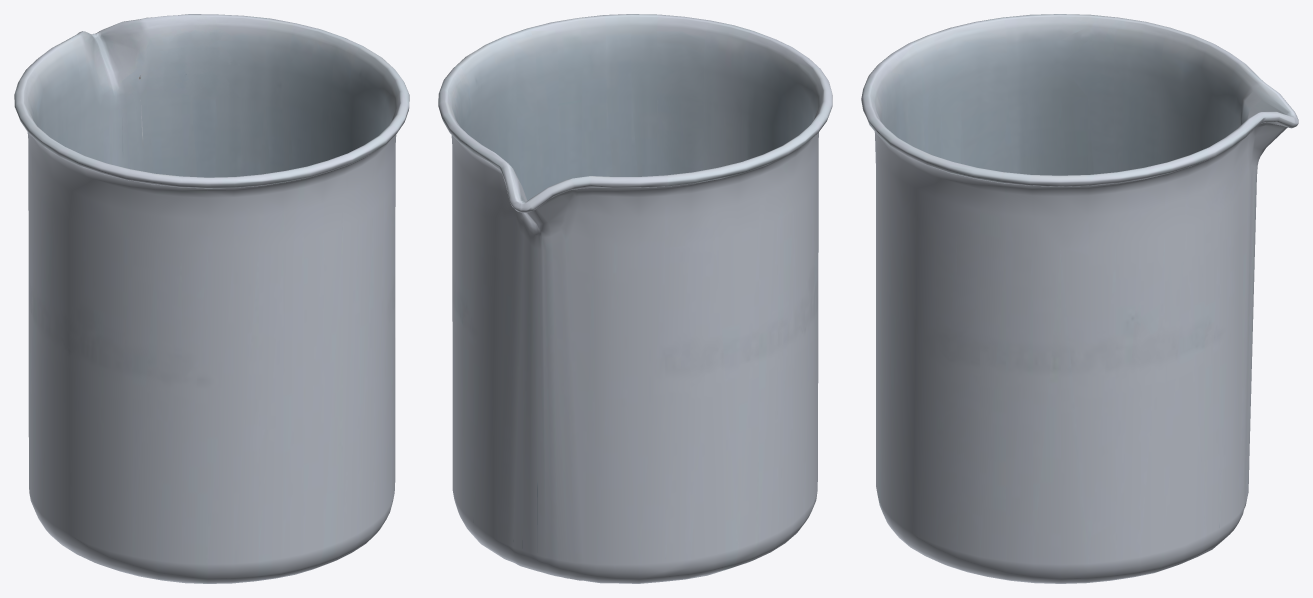
Rendered from glass_cup_1777647016.glb.
The picture shows the model from 3 angles, left to right: view 1: azimuth 30°, elevation 25°; view 2: azimuth 150°, elevation 25°; view 3: azimuth 270°, elevation 25°; orthographic projection.
Parts seen in each view (by area): view 1: tripo_node_94d5b261-6fd9-4f89-94c6-137c932248e7; view 2: tripo_node_94d5b261-6fd9-4f89-94c6-137c932248e7; view 3: tripo_node_94d5b261-6fd9-4f89-94c6-137c932248e7.
Part boxes in pixels (<box>): tripo_node_94d5b261-6fd9-4f89-94c6-137c932248e7: <box>14,14,409,583</box>; tripo_node_94d5b261-6fd9-4f89-94c6-137c932248e7: <box>438,14,832,583</box>; tripo_node_94d5b261-6fd9-4f89-94c6-137c932248e7: <box>861,14,1298,583</box>.
Size of the model in its own units: 0.8301 by 0.998 by 0.9199.
Materials: 1 (1 with a texture image).
